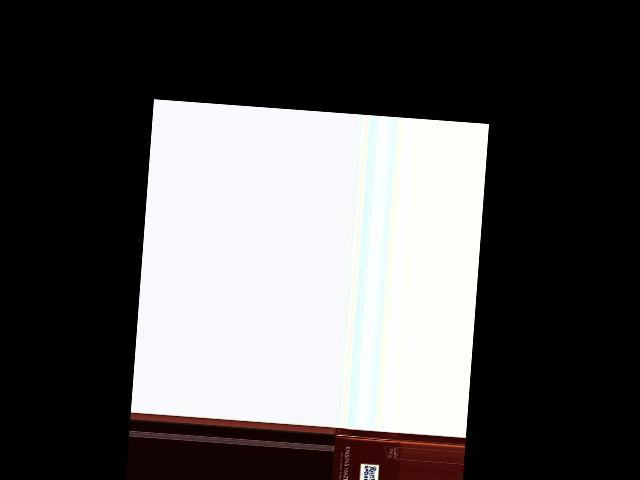chocolate: (328, 427, 402, 480)
